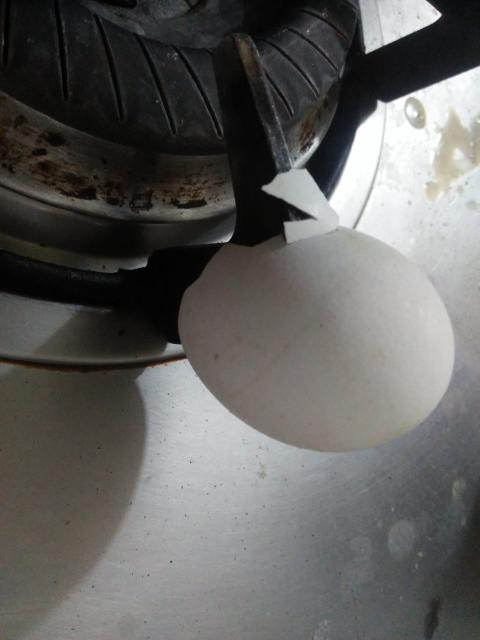Roto: (176, 222, 456, 453)
